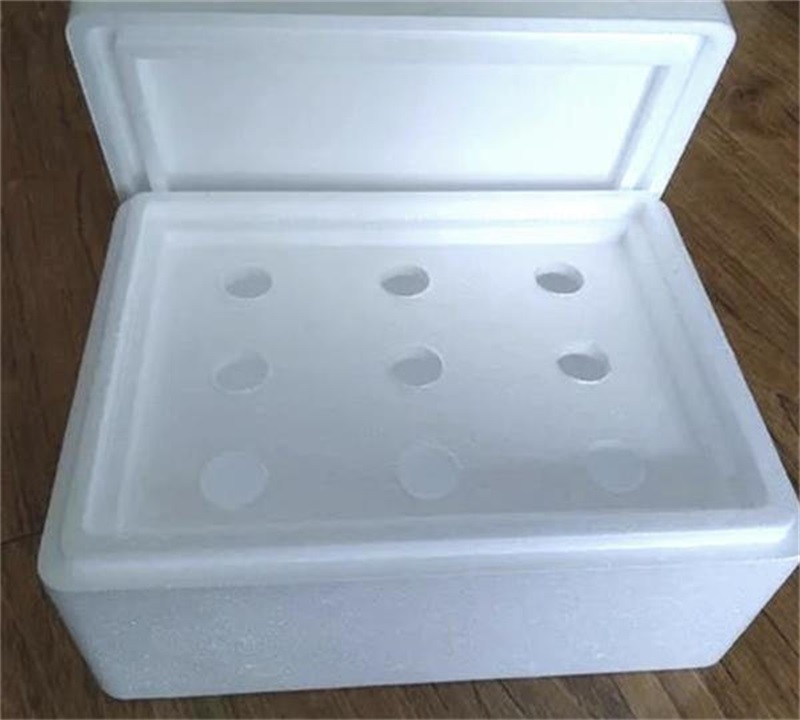泡沫箱: (39, 190, 799, 699)
